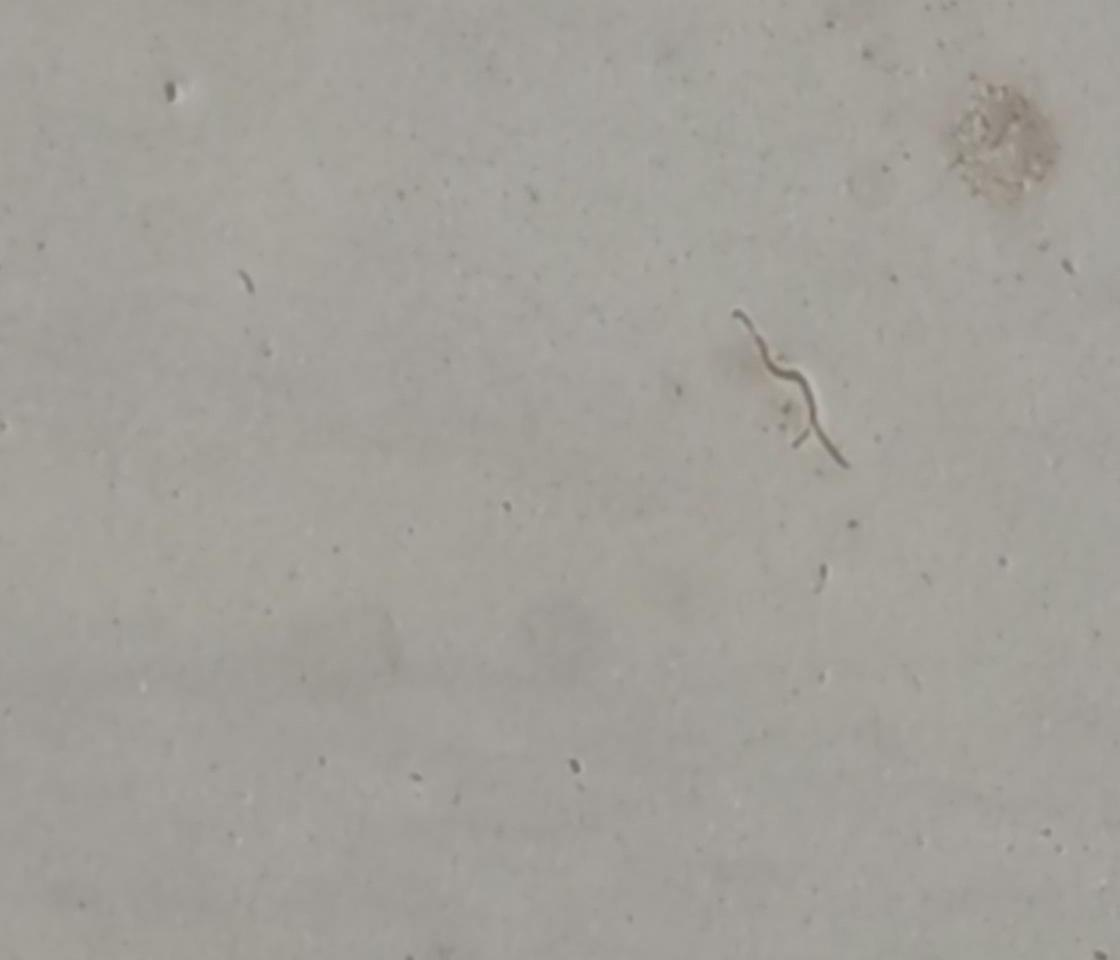scratch: (723, 303, 856, 475)
